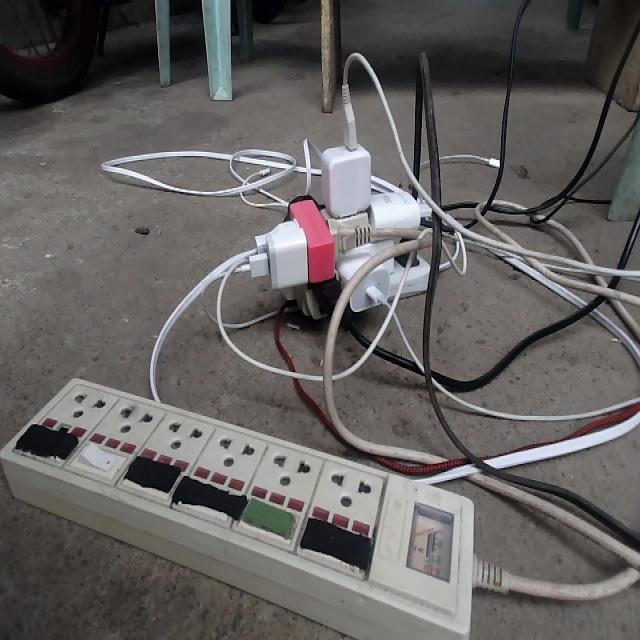-: (227, 49, 440, 316)
